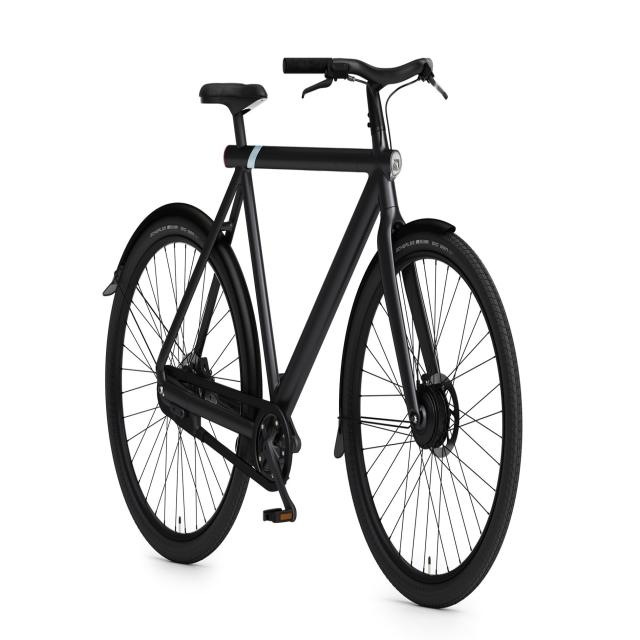bicycle: (102, 55, 523, 609)
